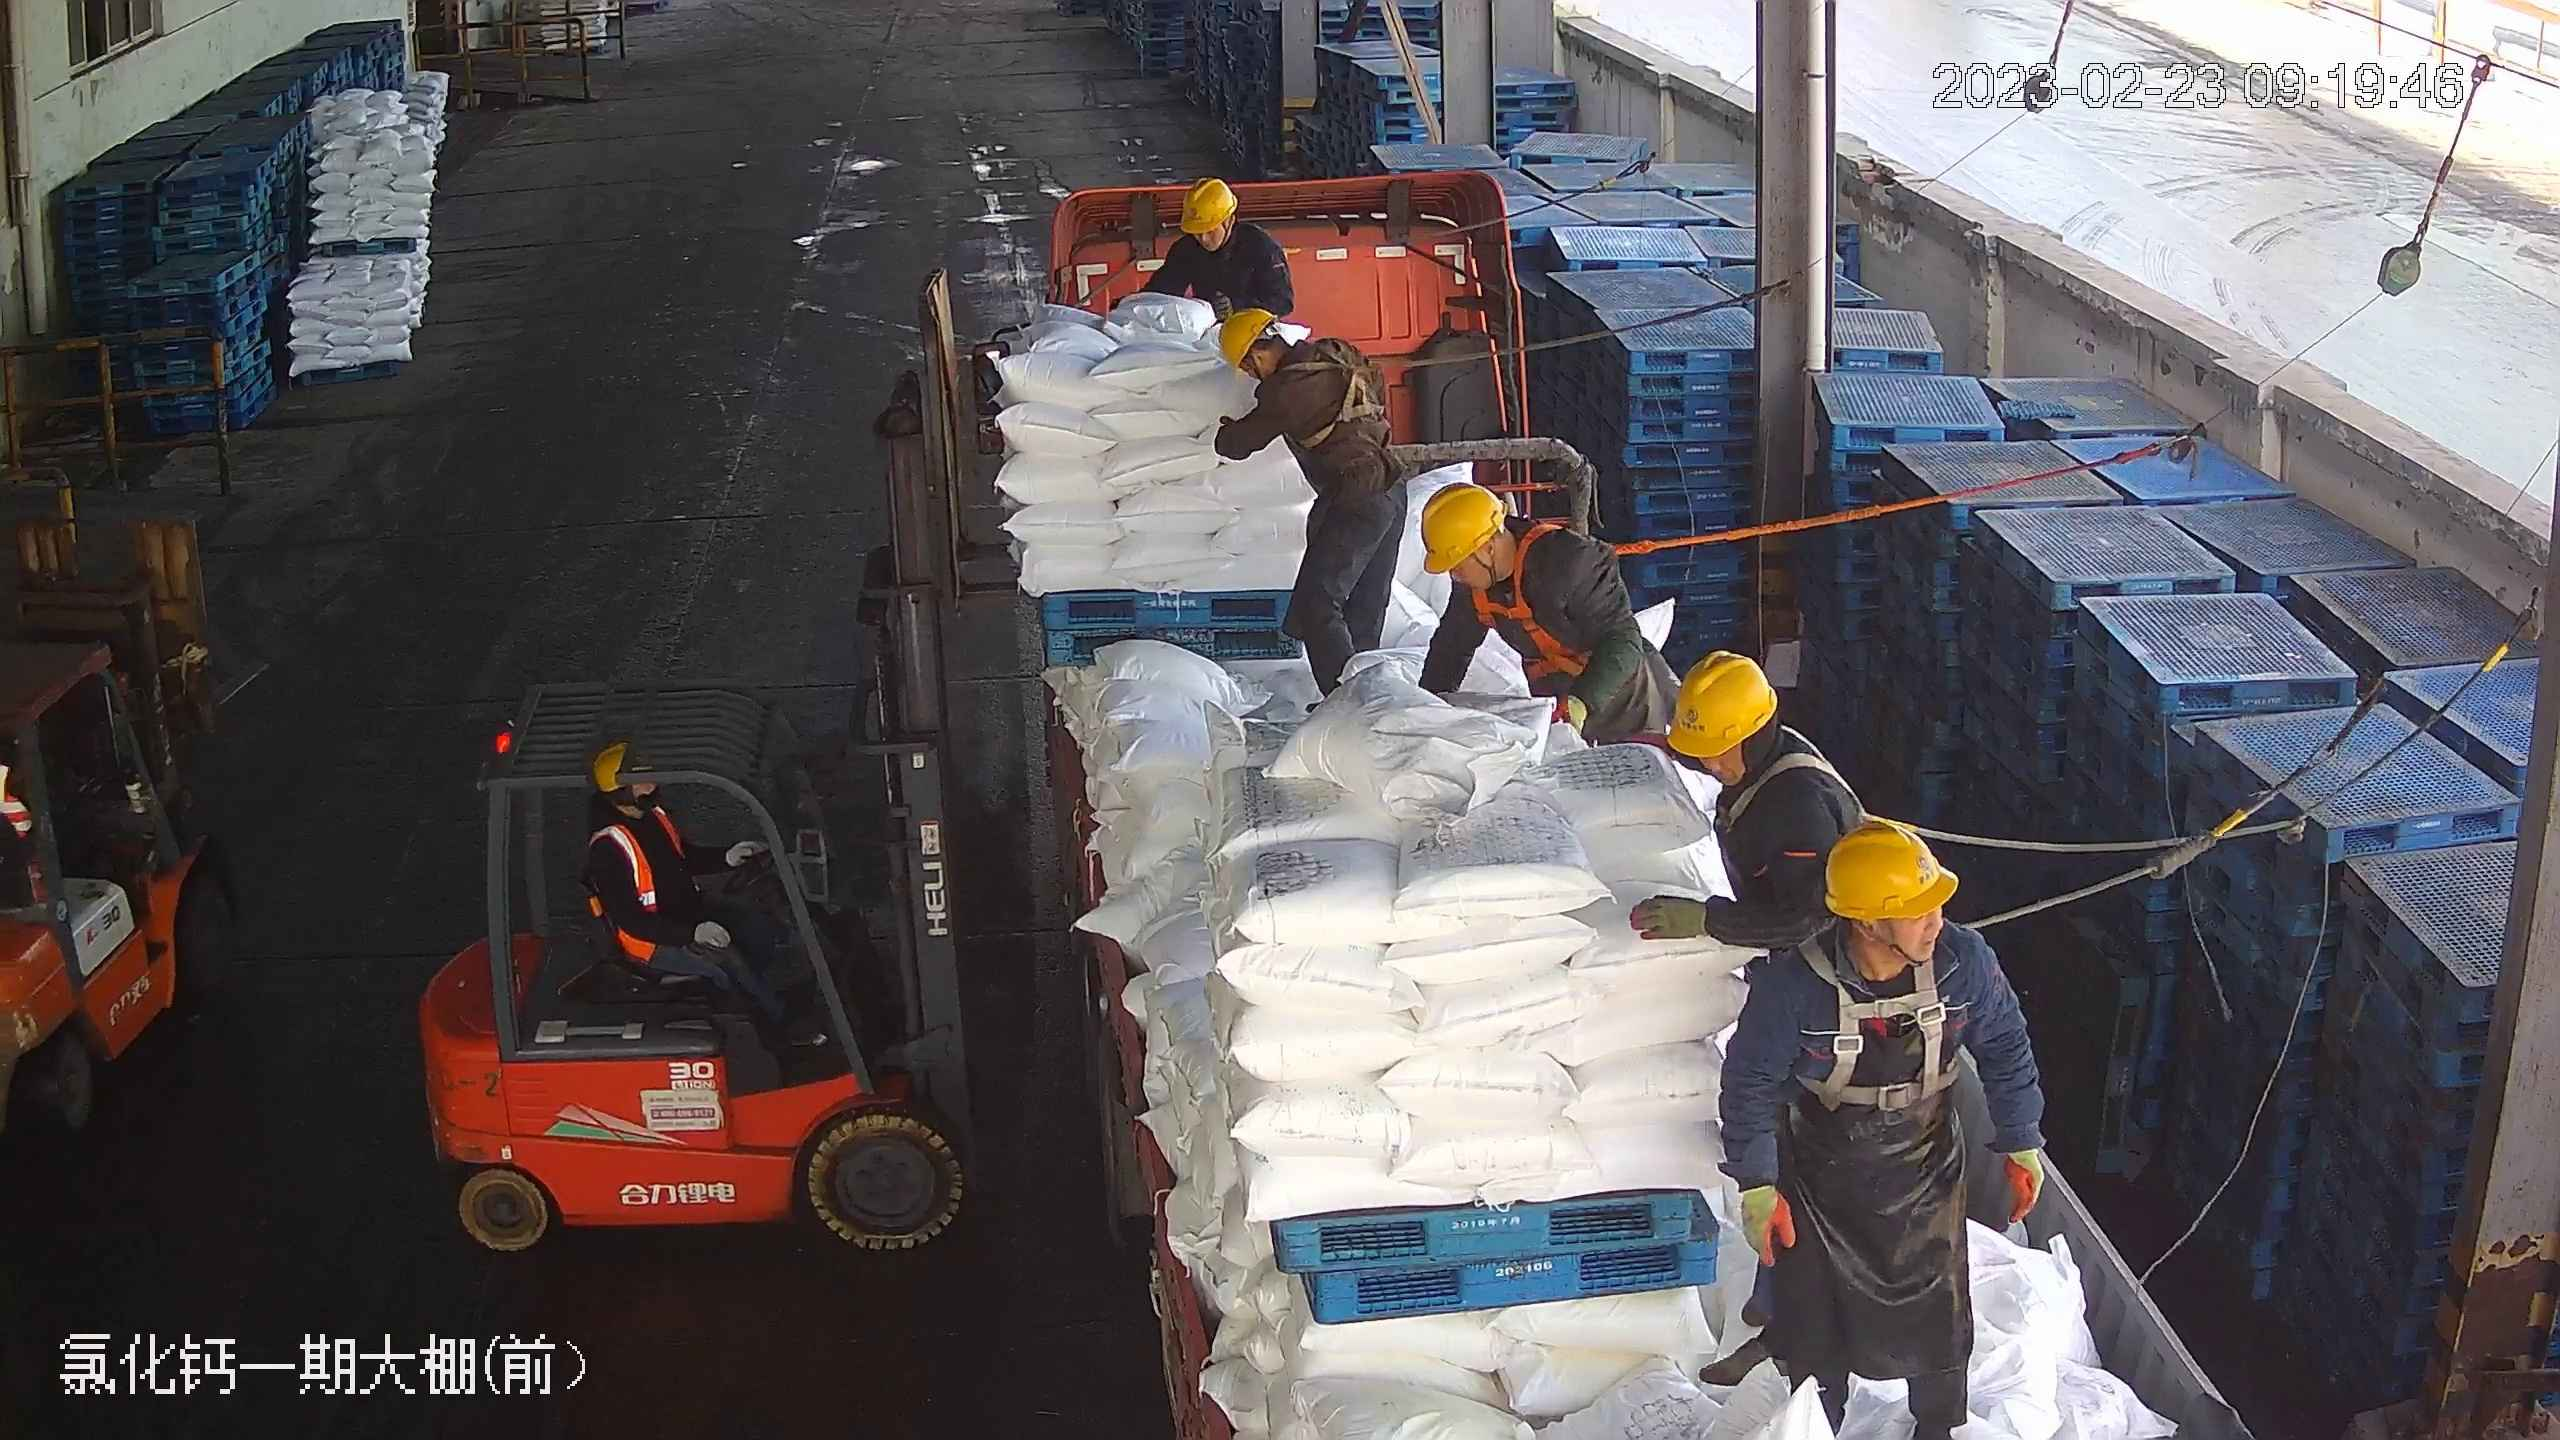belt: (1795, 918, 1974, 1111), (1478, 514, 1637, 678), (1735, 729, 1897, 862), (1277, 337, 1399, 449)
head: (1755, 818, 2010, 1058), (1662, 651, 1859, 834), (1420, 484, 1604, 638), (1216, 304, 1357, 425), (583, 741, 683, 874), (1173, 176, 1277, 273)
helmet: (1819, 820, 1953, 921), (1668, 650, 1778, 755), (1421, 485, 1504, 574), (1218, 307, 1276, 372), (1182, 177, 1236, 227), (590, 741, 641, 792)
people: (1700, 824, 2045, 1439), (581, 737, 823, 1049), (1209, 304, 1402, 700)
truck: (1000, 179, 2270, 1424)
